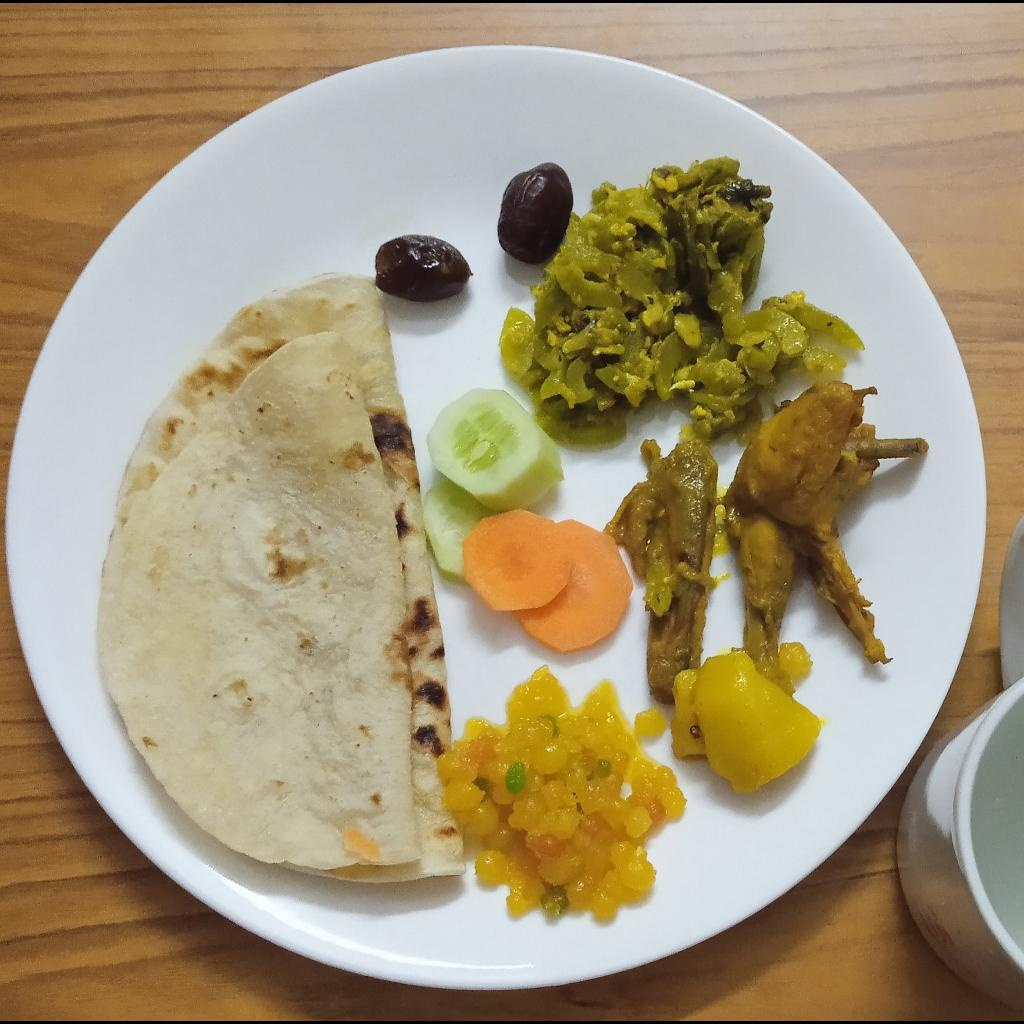burinda: (441, 659, 687, 927)
carrot: (464, 510, 634, 652)
chicken: (604, 379, 931, 705)
cucumber: (425, 390, 564, 587)
dates: (497, 160, 573, 265), (375, 235, 472, 303)
dundol: (500, 156, 865, 453)
potato: (672, 650, 821, 795)
ruti: (97, 275, 466, 889)
